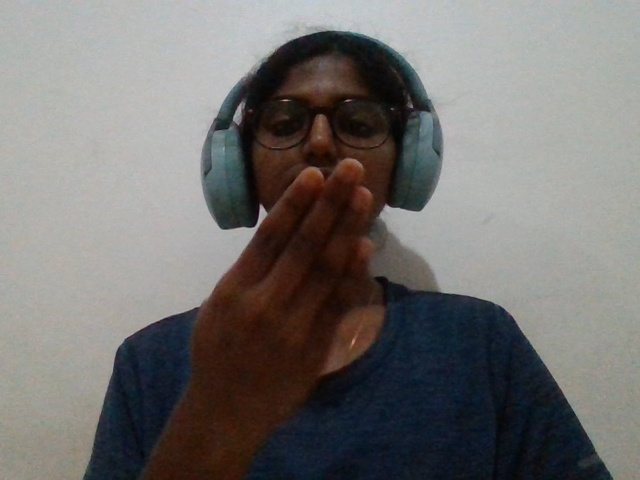Thanks: (159, 134, 397, 449)
